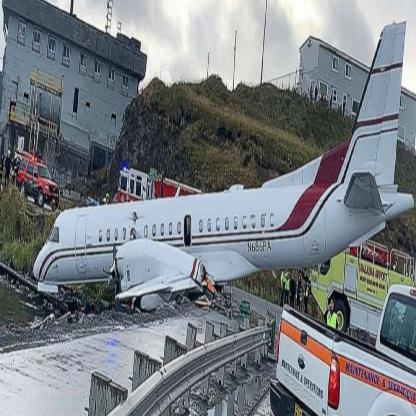CIV_Plane: (20, 16, 415, 312)
